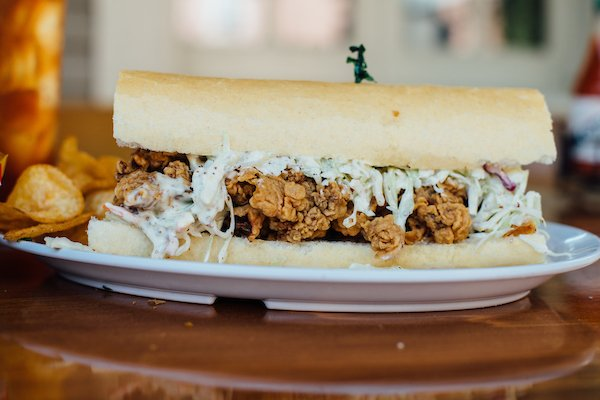pizza: (0, 0, 66, 192)
soup: (90, 69, 579, 273)
